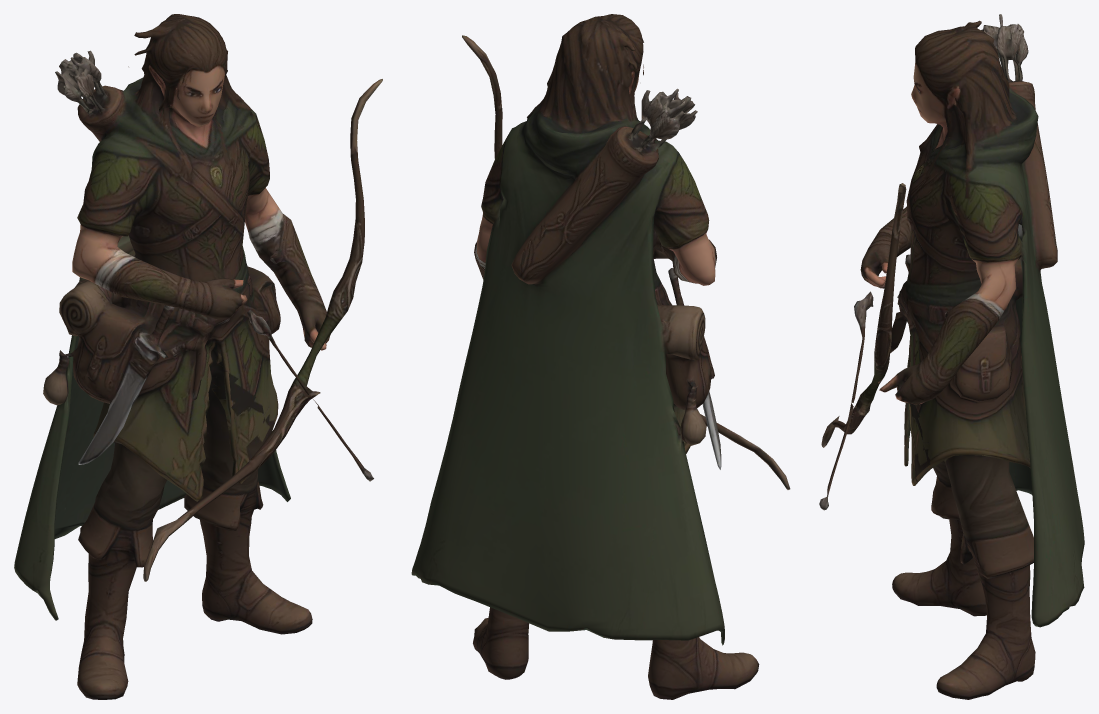
Rendered from Patrulheiro Homem.glb.
3 renders of one model, left to right at view 1: azimuth 30°, elevation 25°; view 2: azimuth 150°, elevation 25°; view 3: azimuth 270°, elevation 25°, orthographic. The views are drawn at different scales.
Parts seen in each view (by area): view 1: tripo_node_74f1c56c-c72f-4e44-9144-384836bfb30d; view 2: tripo_node_74f1c56c-c72f-4e44-9144-384836bfb30d; view 3: tripo_node_74f1c56c-c72f-4e44-9144-384836bfb30d.
Part boxes in pixels (x1=…): tripo_node_74f1c56c-c72f-4e44-9144-384836bfb30d: x1=14, y1=14, x2=382, y2=699; tripo_node_74f1c56c-c72f-4e44-9144-384836bfb30d: x1=411, y1=14, x2=790, y2=699; tripo_node_74f1c56c-c72f-4e44-9144-384836bfb30d: x1=819, y1=14, x2=1084, y2=699.
Size of the model in its own units: 0.5009 by 0.9849 by 0.3838.
Materials: 1 (1 with a texture image).
